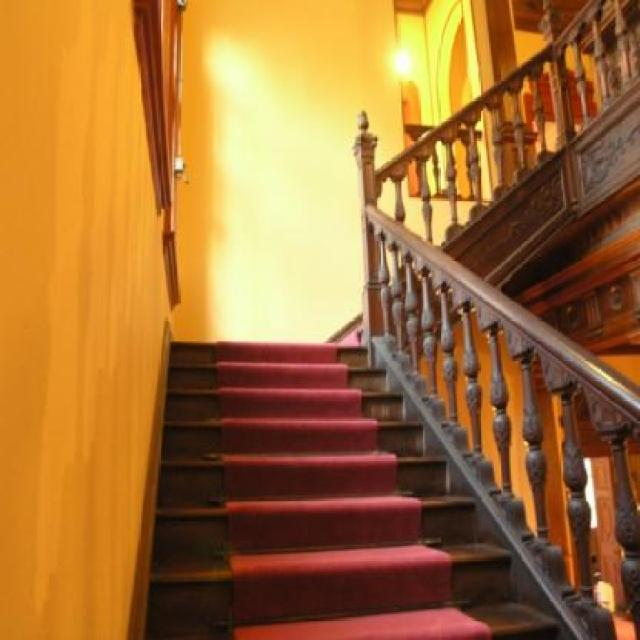stair: (130, 152, 582, 638)
